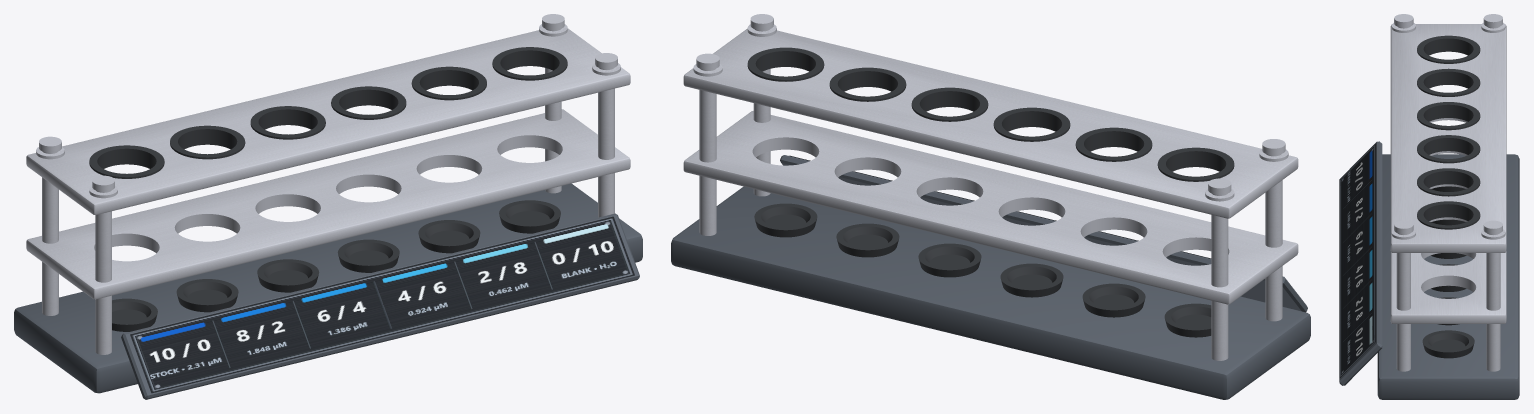
The model's file is test_tube_rack.glb.
The picture shows the model from 3 angles, left to right: view 1: azimuth 30°, elevation 25°; view 2: azimuth 150°, elevation 25°; view 3: azimuth 270°, elevation 25°; orthographic projection. The views are drawn at different scales.
Parts seen in each view (by area): view 1: RackMidDeck, RackLabelQuad, RackTopDeck, RackBase, RackLabelBacking, RackPost_-0.13_-0.02, RackPost_0.13_-0.02, RackPost_-0.13_0.02, RackGrommet_3, RackGrommet_2, RackGrommet_5, RackGrommet_0 (+9 smaller); view 2: RackBase, RackMidDeck, RackTopDeck, RackLabelBacking, RackPost_0.13_0.02, RackPost_-0.13_0.02, RackPost_-0.13_-0.02, RackGrommet_1, RackGrommet_3, RackGrommet_2, RackGrommet_4, RackGrommet_5 (+8 smaller); view 3: RackTopDeck, RackBase, RackLabelQuad, RackMidDeck, RackLabelBacking, RackPost_0.13_0.02, RackPost_0.13_-0.02, RackGrommet_4, RackGrommet_5, RackGrommet_3, RackGrommet_2, RackGrommet_0 (+7 smaller).
Boxes of the visible parts, box(x1,y1,x2,y2) form: RackMidDeck: box(26, 109, 630, 299); RackLabelQuad: box(130, 216, 634, 393); RackTopDeck: box(26, 28, 630, 214); RackBase: box(14, 183, 642, 393); RackLabelBacking: box(121, 213, 639, 399); RackPost_-0.13_-0.02: box(95, 190, 111, 354); RackPost_0.13_-0.02: box(598, 68, 614, 217); RackPost_-0.13_0.02: box(42, 151, 58, 315); RackGrommet_3: box(331, 86, 406, 119); RackGrommet_2: box(250, 106, 325, 139); RackGrommet_5: box(492, 47, 567, 80); RackGrommet_0: box(89, 145, 164, 178); RackBase: box(671, 186, 1310, 399); RackMidDeck: box(683, 111, 1298, 304); RackTopDeck: box(683, 28, 1298, 218); RackLabelBacking: box(780, 155, 1307, 312); RackPost_0.13_0.02: box(699, 68, 716, 235); RackPost_-0.13_0.02: box(1211, 193, 1228, 360); RackPost_-0.13_-0.02: box(1265, 154, 1282, 321); RackGrommet_1: box(1075, 127, 1152, 161); RackGrommet_3: box(911, 87, 988, 121); RackGrommet_2: box(993, 107, 1070, 141); RackGrommet_4: box(829, 67, 906, 101); RackGrommet_5: box(747, 47, 824, 81); RackTopDeck: box(1390, 24, 1506, 252); RackBase: box(1377, 154, 1519, 399); RackLabelQuad: box(1339, 144, 1375, 377); RackMidDeck: box(1390, 118, 1506, 323); RackLabelBacking: box(1339, 141, 1382, 385); RackPost_0.13_0.02: box(1486, 233, 1500, 371); RackPost_0.13_-0.02: box(1396, 233, 1410, 371); RackGrommet_4: box(1417, 168, 1480, 196); RackGrommet_5: box(1417, 201, 1480, 229); RackGrommet_3: box(1417, 135, 1480, 163); RackGrommet_2: box(1417, 102, 1480, 130); RackGrommet_0: box(1417, 35, 1480, 63).
Size of the model in its own units: 0.286 by 0.0991 by 0.0965.
Materials: 6 (3 with a texture image).
